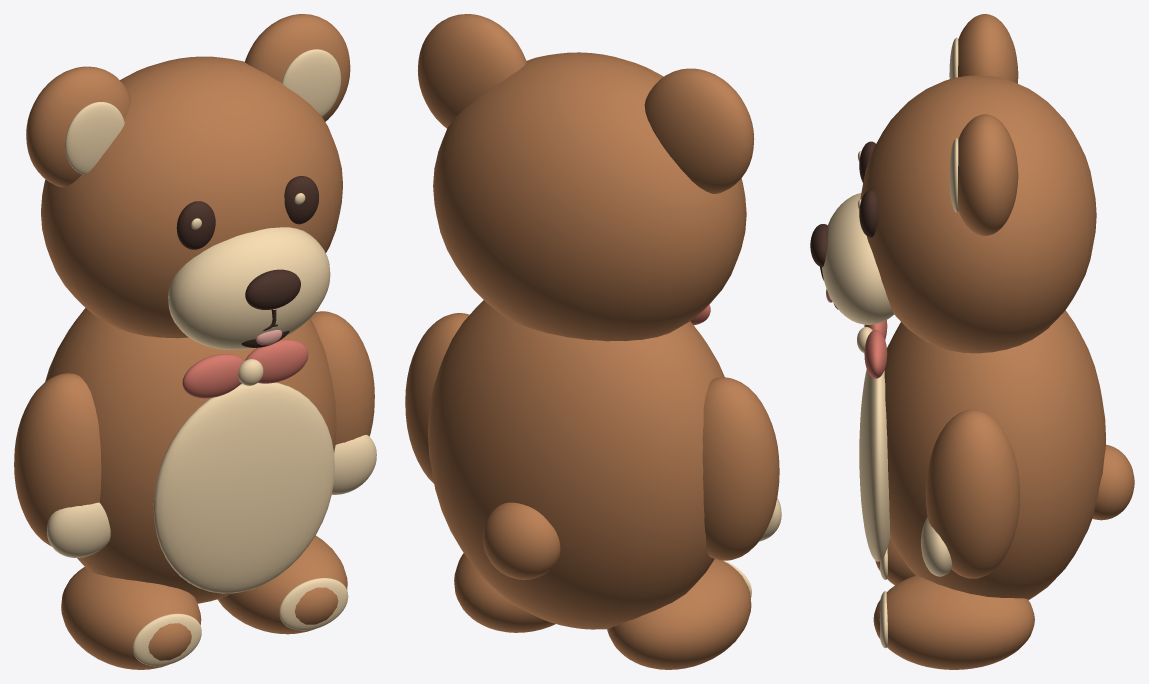
The model's file is teddy-bear.glb.
3 views of the same model, side by side, from view 1: azimuth 30°, elevation 25°; view 2: azimuth 150°, elevation 25°; view 3: azimuth 270°, elevation 25° (orthographic). The views are drawn at different scales.
Parts seen in each view (by area): view 1: Plush_Head, Tummy, Plush_Body, Arm (×2), Foot (×2), Muzzle, Round_Ear (×2), Ear_Inner (×2), Paw (×2), Foot_Pad (×2), Eye (×2), Bow_Left (+3 smaller); view 2: Plush_Body, Plush_Head, Round_Ear (×2), Arm (×2), Foot (×2), Tail_Puff; view 3: Plush_Head, Plush_Body, Arm, Foot (×2), Round_Ear (×2), Muzzle, Tummy, Tail_Puff, Paw, Bow_Right, Eye, Nose (+1 smaller).
Boxes of the visible parts, x1,y1,x2,y2 form: Plush_Head: (41,56,342,338); Tummy: (153,382,334,593); Plush_Body: (45,308,336,603); Arm (×2): (14,311,374,546); Foot (×2): (61,535,347,669); Muzzle: (168,227,330,349); Round_Ear (×2): (26,14,350,187); Ear_Inner (×2): (65,49,341,174); Paw (×2): (47,434,376,557); Foot_Pad (×2): (132,578,348,666); Eye (×2): (176,176,318,249); Bow_Left: (182,354,244,398); Plush_Body: (428,300,724,629); Plush_Head: (433,52,746,341); Round_Ear (×2): (417,14,754,193); Arm (×2): (405,313,779,560); Foot (×2): (454,553,751,669); Tail_Puff: (483,502,560,579); Plush_Head: (860,75,1096,353); Plush_Body: (884,310,1105,599); Arm: (925,409,1020,578); Foot (×2): (873,537,1034,669); Round_Ear (×2): (958,14,1018,235); Muzzle: (822,193,893,324); Tummy: (859,369,890,561); Tail_Puff: (1092,444,1134,520); Paw: (921,517,952,576); Bow_Right: (864,329,887,378); Eye: (859,189,878,237); Nose: (810,224,828,267).
Size of the model in its own units: 0.81 by 1.3 by 0.683.
